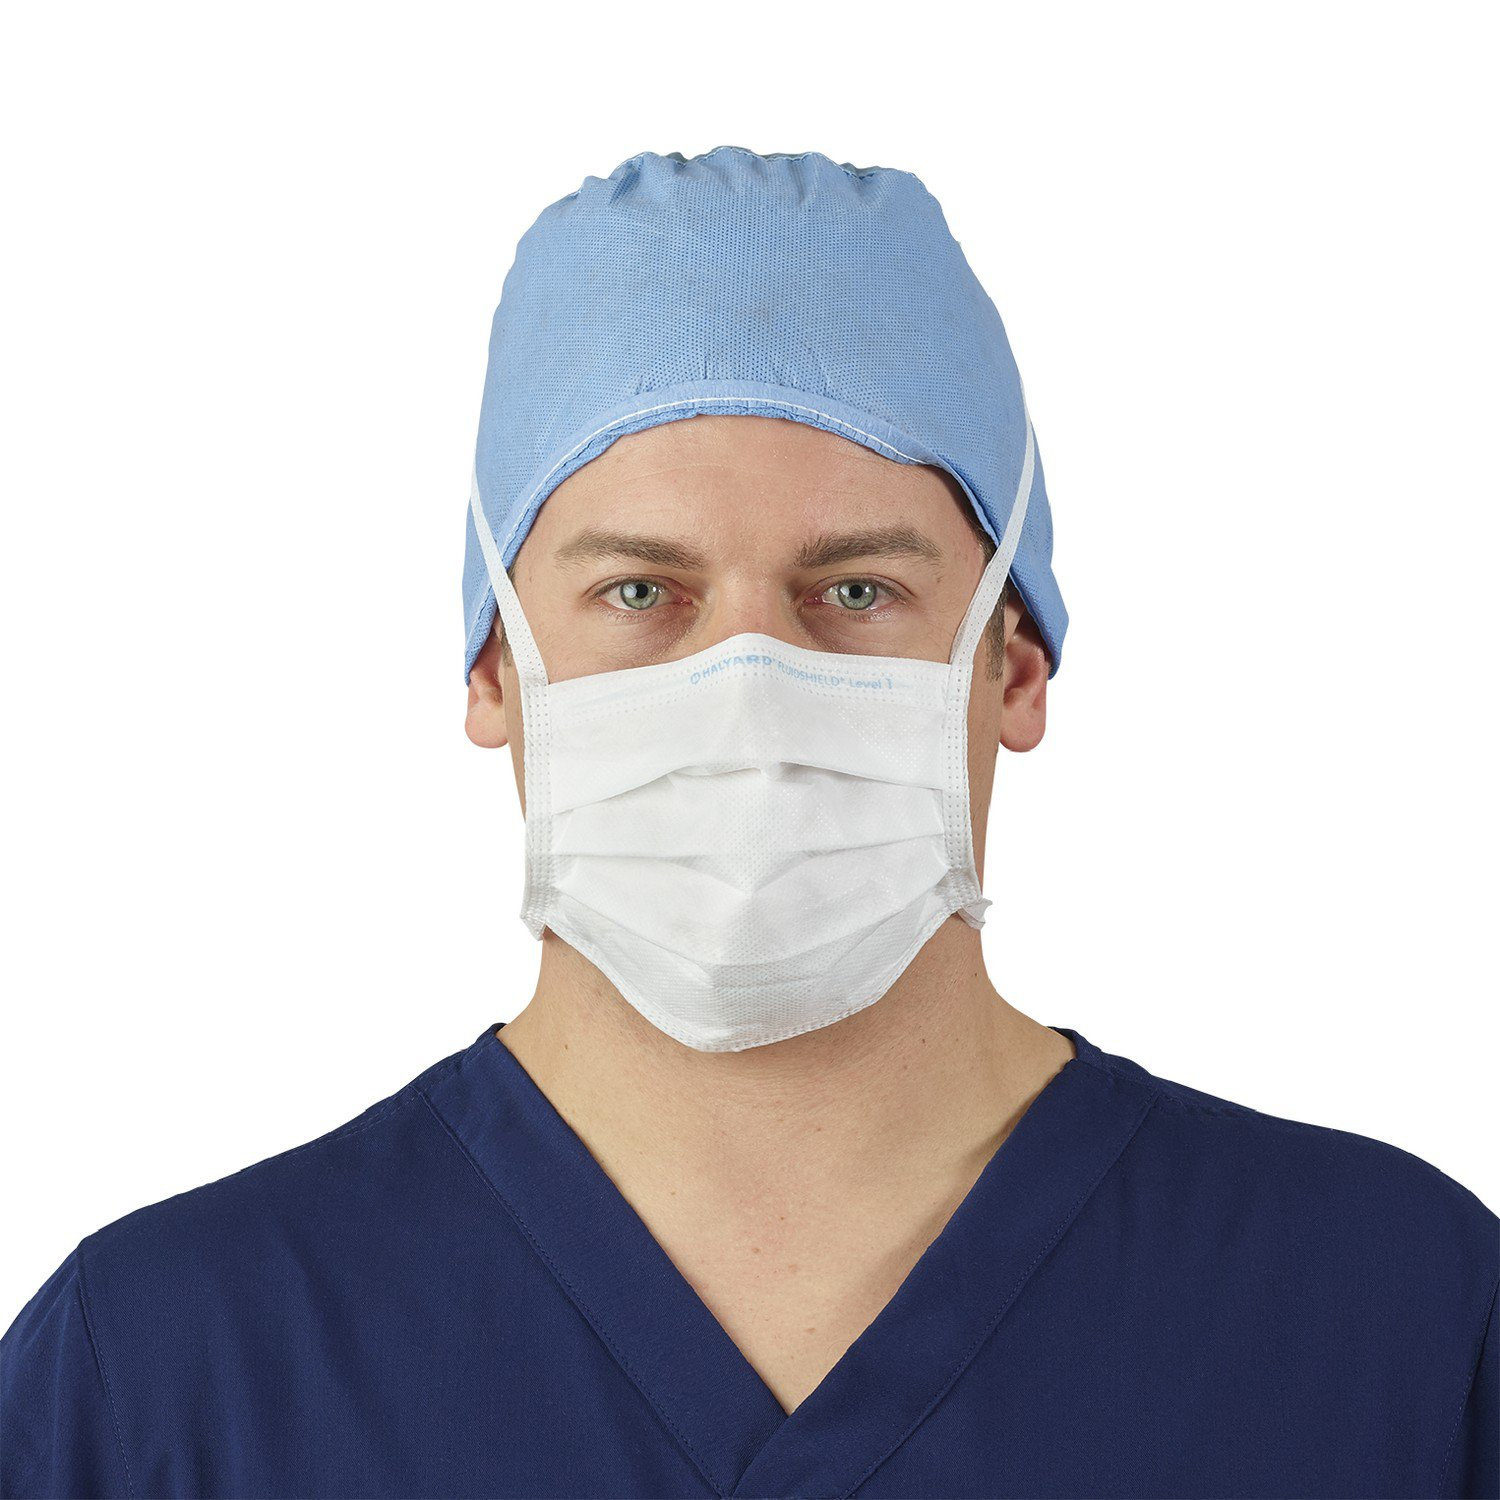mask: (380, 100, 1119, 1065)
